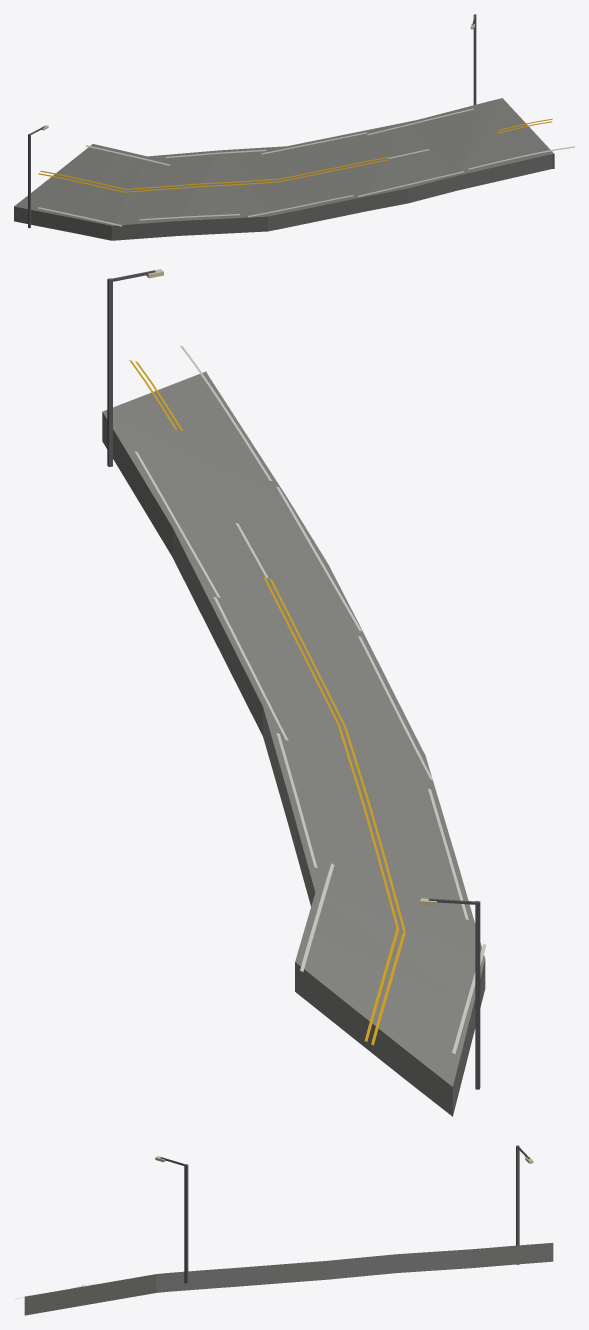
The picture shows the model from 3 angles, top to bottom: view 1: azimuth 30°, elevation 25°; view 2: azimuth 150°, elevation 25°; view 3: azimuth 270°, elevation 25°; orthographic projection. The views are drawn at different scales.
Bounding box in the file's own units: 29.47 × 18.94 × 32.27.
